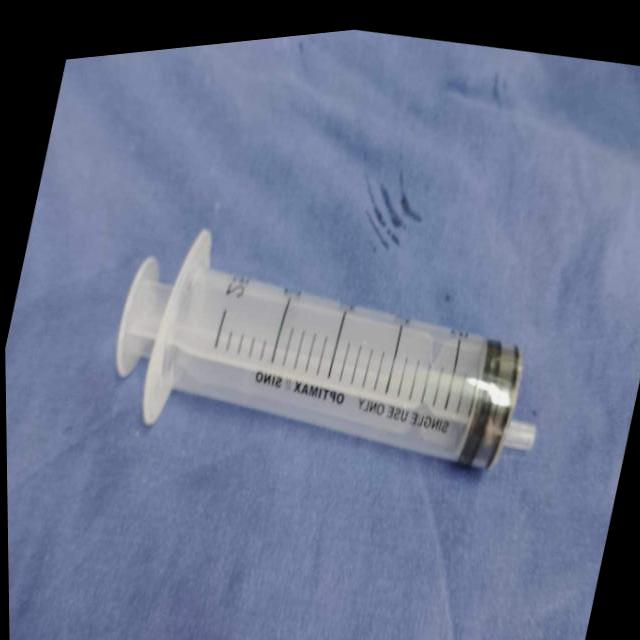Sharps: (114, 228, 539, 471)
